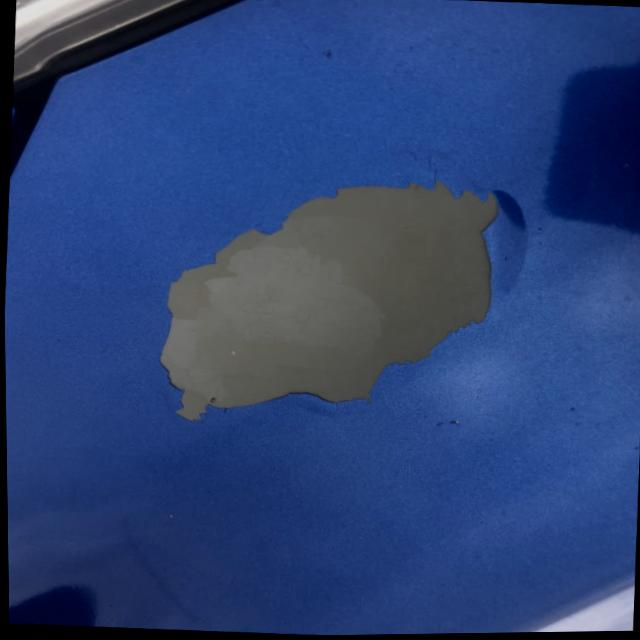Paint-fading: (140, 164, 520, 433)
